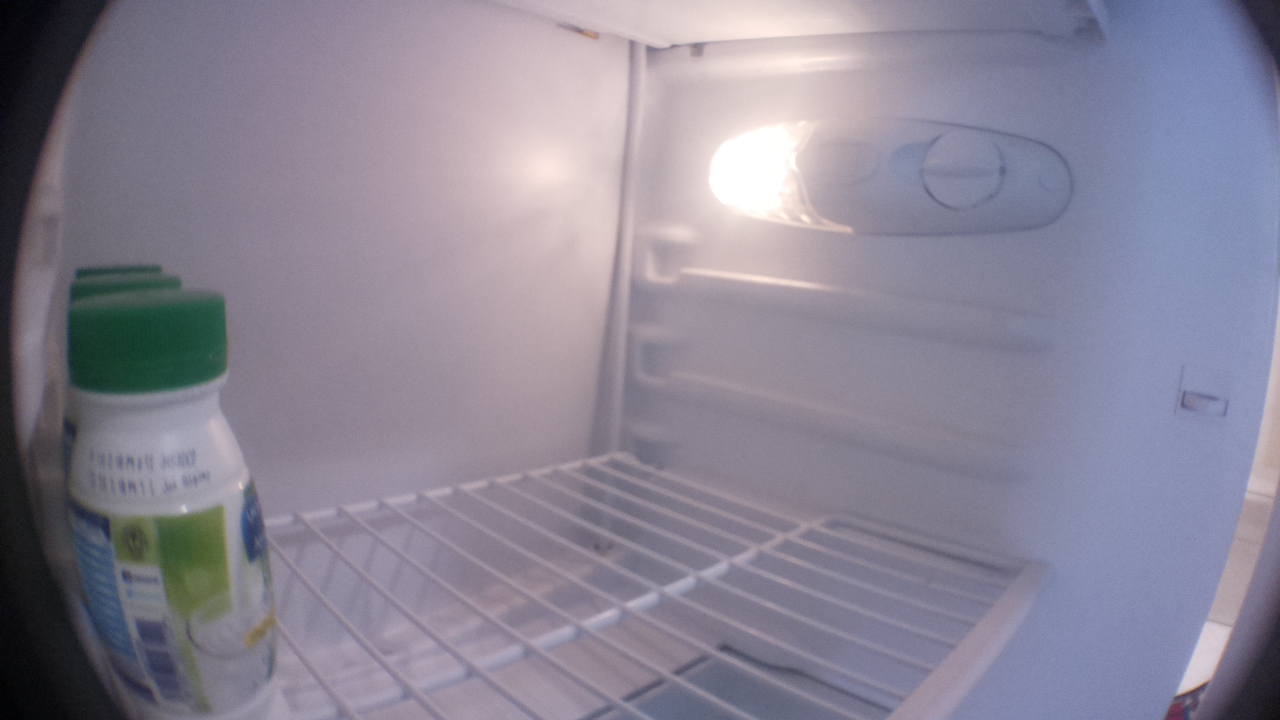laban: (59, 287, 291, 720)
